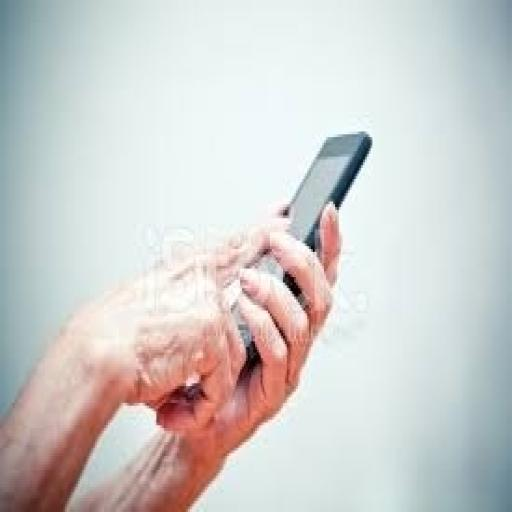texting: (0, 199, 343, 509)
